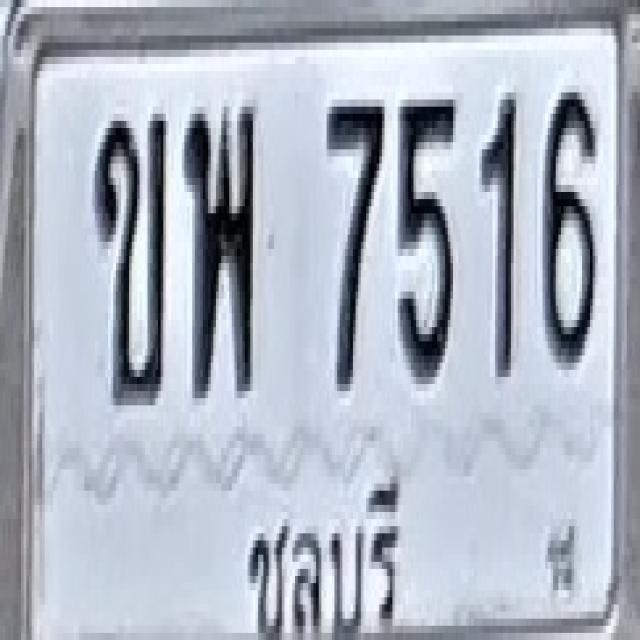1: (479, 92, 516, 377)
5: (398, 92, 456, 384)
6: (543, 85, 595, 363)
7: (325, 96, 383, 388)
A02: (92, 110, 166, 402)
A30: (183, 100, 254, 398)
